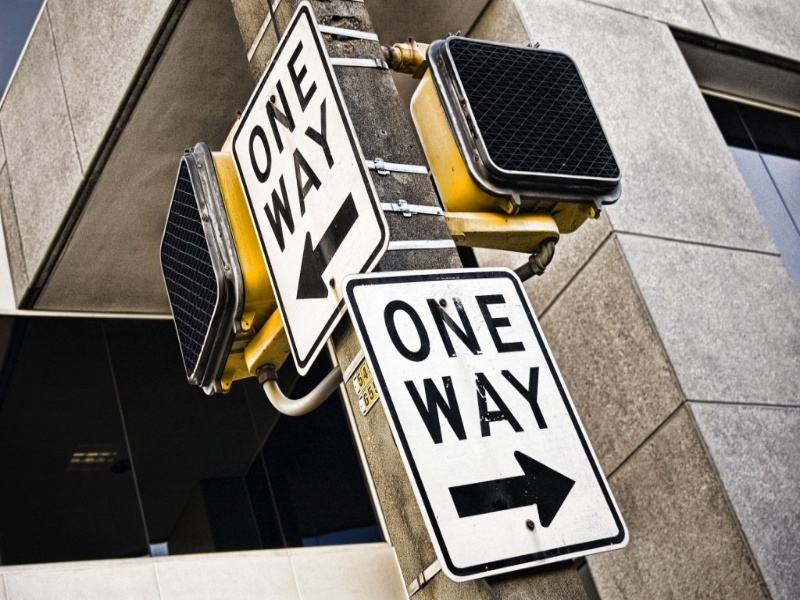left_direction: (293, 187, 364, 302)
right_direction: (442, 446, 581, 533)
